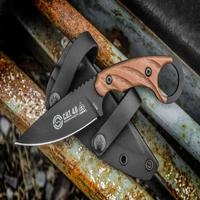knife: (7, 51, 167, 149)
